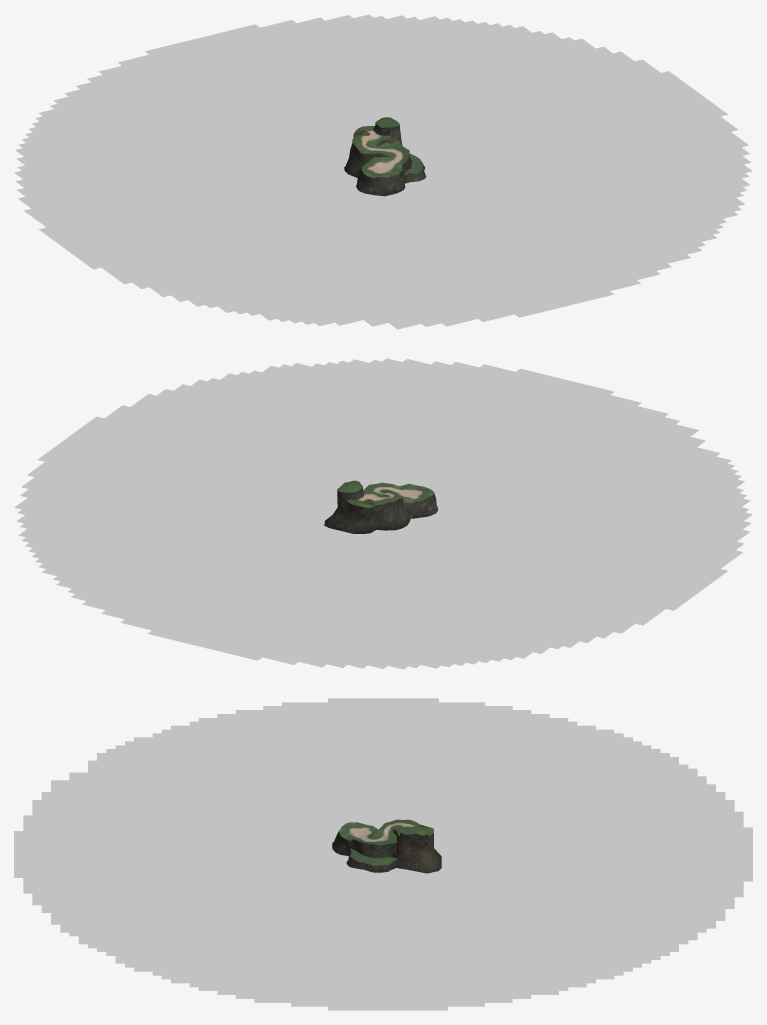
File: ICG26.fbx
3 views of the same model, one above another, from view 1: azimuth 30°, elevation 25°; view 2: azimuth 150°, elevation 25°; view 3: azimuth 270°, elevation 25° (orthographic).
Parts seen in each view (by area): view 1: ocean, ground, wall; view 2: ocean, wall, ground; view 3: ocean, wall, ground.
Part boxes in pixels (x1=…): ocean: x1=14, y1=14, x2=752, y2=329; ground: x1=352, y1=117, x2=423, y2=177; wall: x1=344, y1=124, x2=426, y2=196; ocean: x1=14, y1=358, x2=752, y2=669; wall: x1=324, y1=487, x2=438, y2=533; ground: x1=337, y1=480, x2=434, y2=507; ocean: x1=14, y1=698, x2=752, y2=1010; wall: x1=332, y1=830, x2=441, y2=873; ground: x1=339, y1=819, x2=433, y2=865.
Size of what is drawn, in the model's own units: 74273 by 4541 by 74273.
3 materials, 3 textured.
